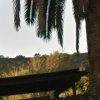Palm tree: (10, 3, 100, 53)
